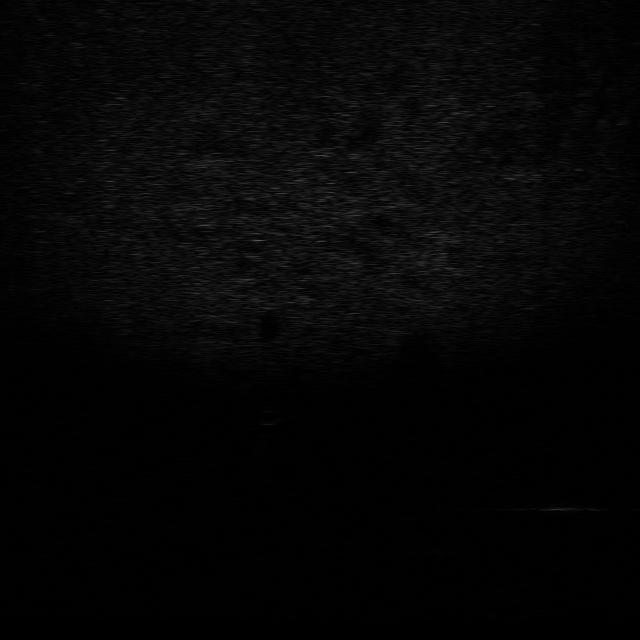ball: (250, 407, 288, 427)
metal bucket: (512, 499, 602, 516)
tyre: (397, 510, 452, 560)
